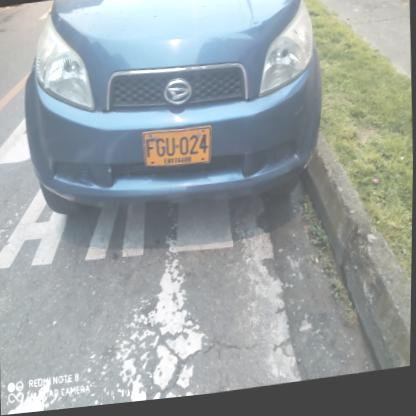placa: (139, 123, 216, 179)
